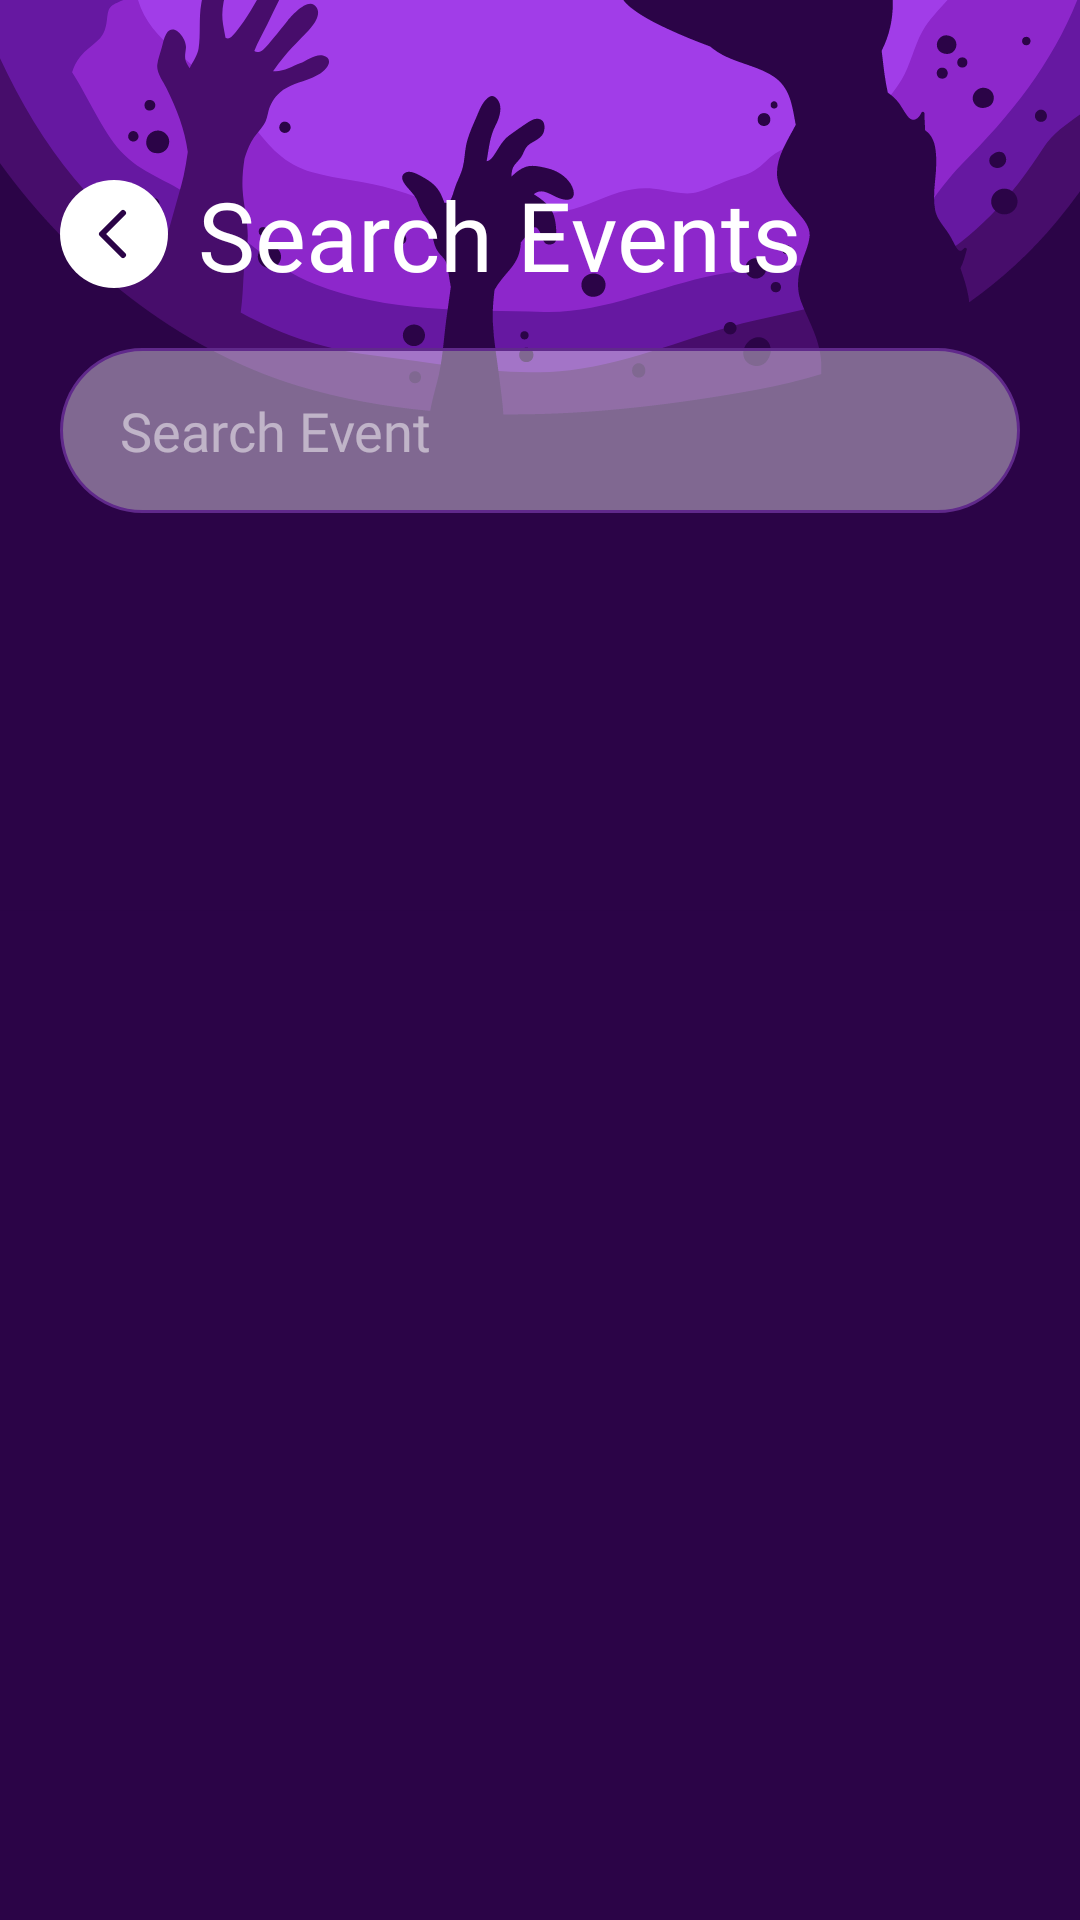

Icon click points for this 1080px x 1920px phone screenshot, format [x,y]:
back: [114,234]
